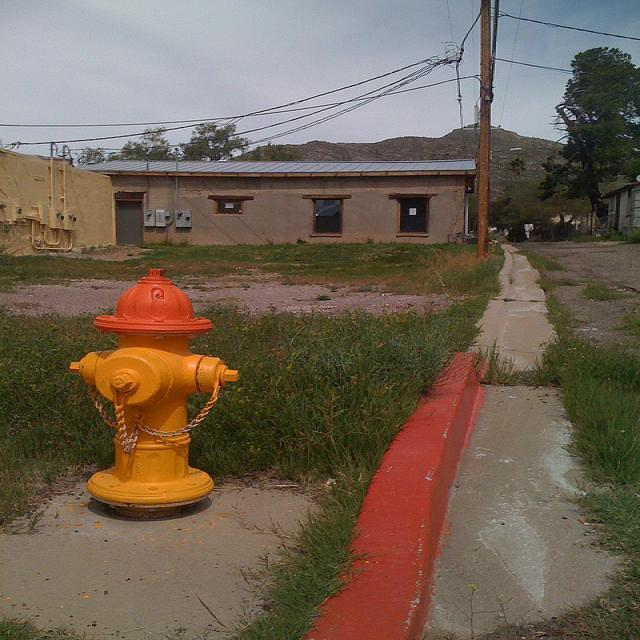fire_hydrant: (64, 270, 238, 520)
